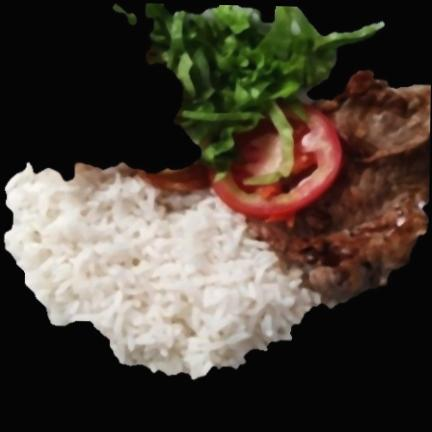meat: (247, 70, 431, 307)
rice: (5, 165, 322, 369)
salad: (147, 3, 383, 153)
tomato: (135, 102, 346, 219)
